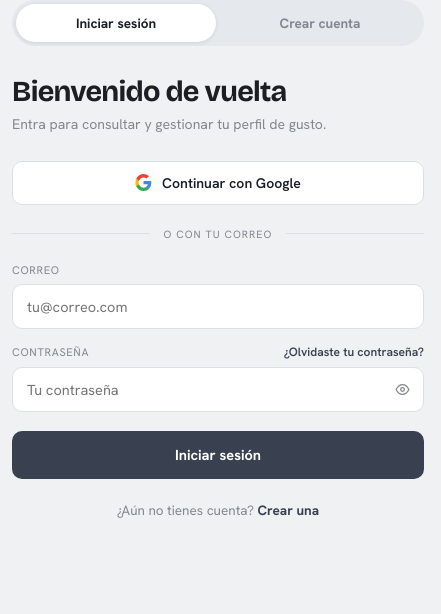
Test: AuthForm › alterna a registro mostrando el campo Nombre
Expected: the field with placeholder "Cómo te llamamos" is not shown
Click the button "Crear cuenta".
click(320, 23)  # box [220, 4, 420, 42]
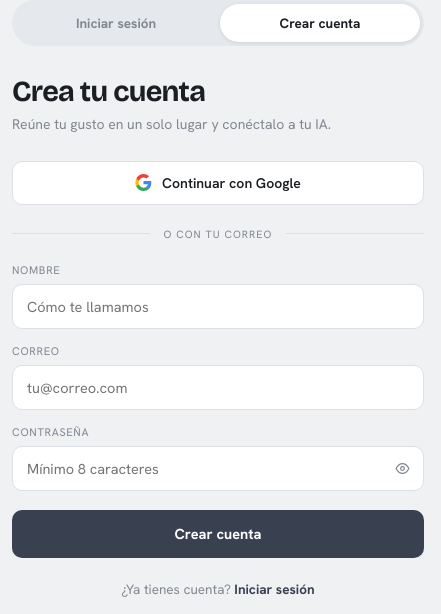
Expected: the field with placeholder "Cómo te llamamos" is shown, [12, 284, 424, 329]
